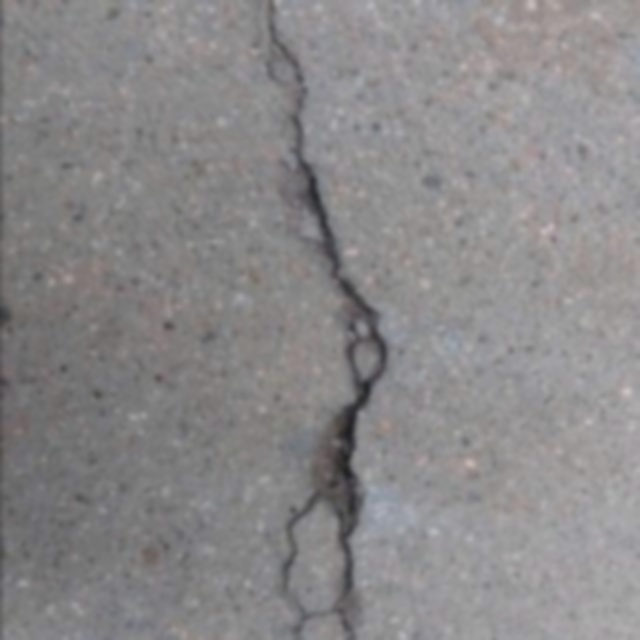SurfaceCrack: (230, 0, 418, 640)
